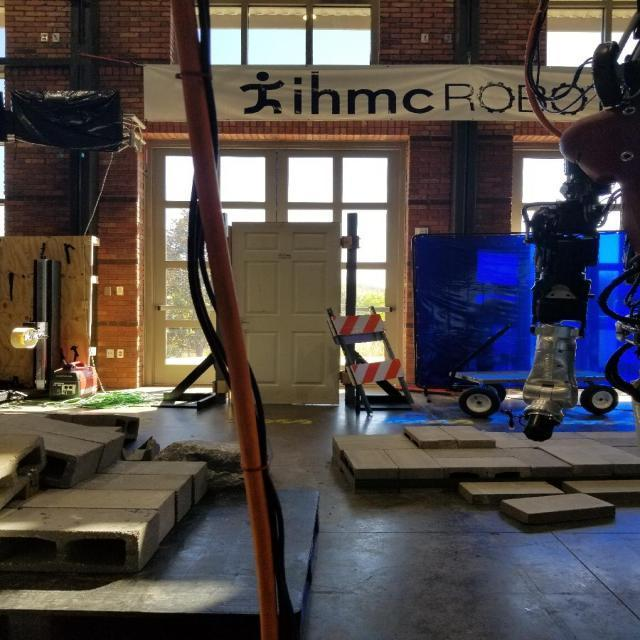door: (228, 218, 348, 409), (232, 316, 250, 326)
